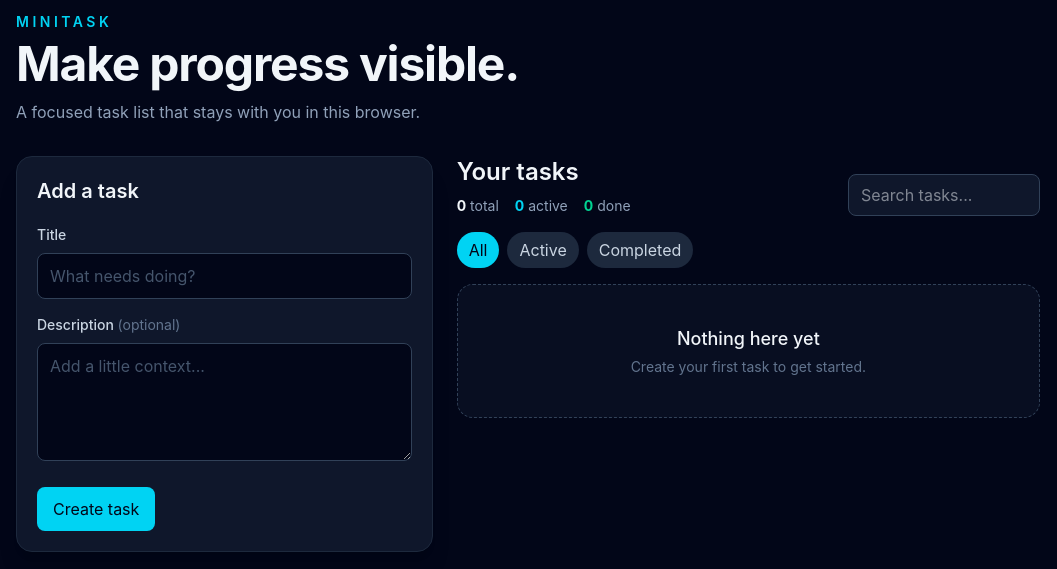
Test: MiniTask workflows › creates a task and trims whitespace
Type "  Buy milk  " into the field labelled "Title" at (224, 276), box 37,253 -> 412,299
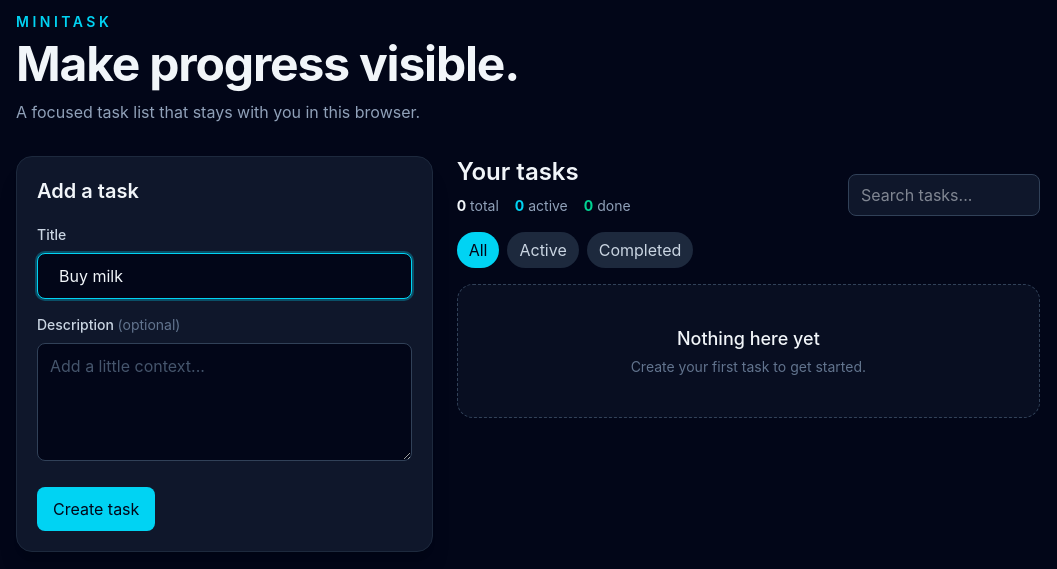
Type "  from the store " into the text box labelled "Description (optional)" at (224, 402), box 37,343 -> 412,461
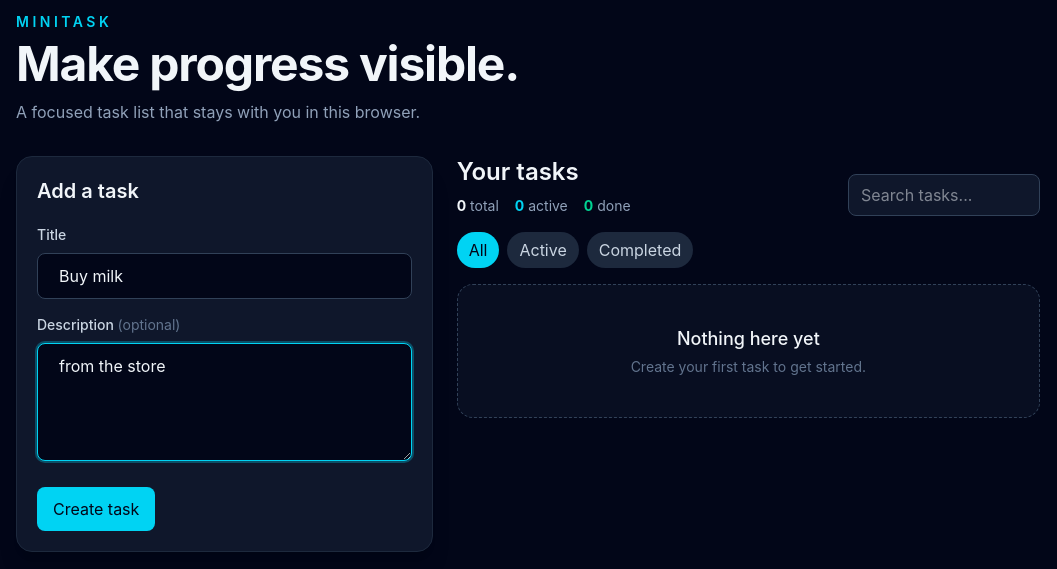
Click the button "Create task" at (96, 509), box 37,487 -> 155,531
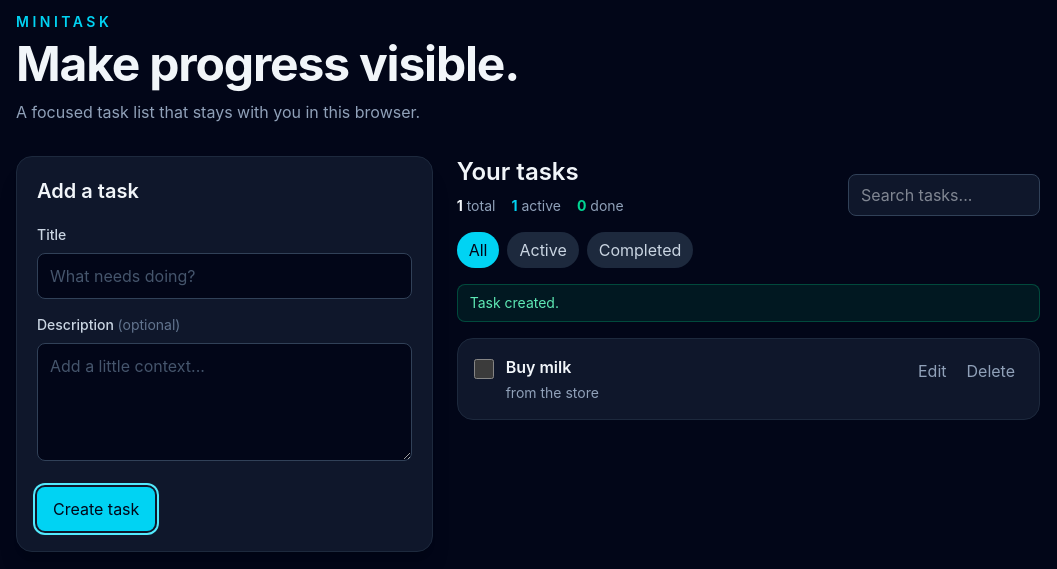
expect the heading "Buy milk" is shown: met, box 506,357 -> 571,377
expect the text "from the store" is shown: met, box 506,384 -> 599,401
expect the message reads "Task created.": met, box 470,294 -> 559,311
